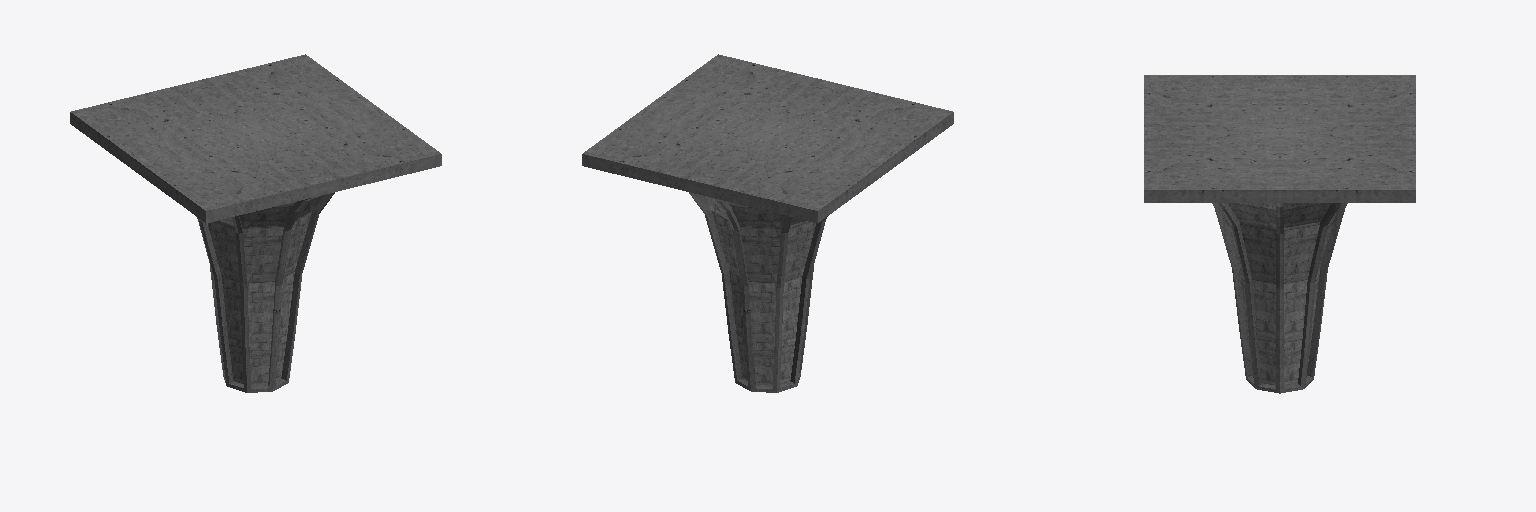
3 views of the same model, side by side, from view 1: azimuth 30°, elevation 25°; view 2: azimuth 150°, elevation 25°; view 3: azimuth 270°, elevation 25° (orthographic).
Visible parts, largest first — view 1: castle-arch2; view 2: castle-arch2; view 3: castle-arch2.
Boxes of the visible parts, x1,y1,x2,y2 form: castle-arch2: [70, 54, 441, 392]; castle-arch2: [582, 54, 953, 392]; castle-arch2: [1144, 75, 1415, 393].
Size of the model in its own units: 2 by 2 by 2.
1 materials, 1 textured.